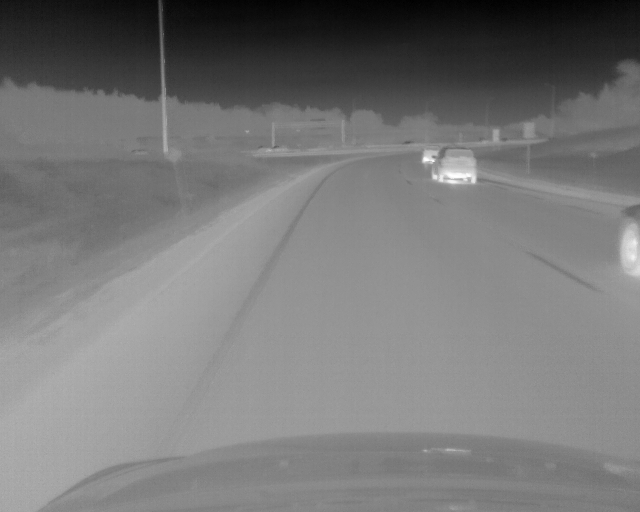car: (612, 202, 640, 280), (430, 147, 480, 183), (421, 147, 439, 163)
